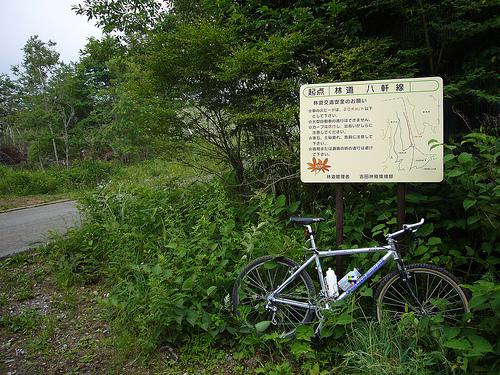car: (230, 215, 474, 345)
